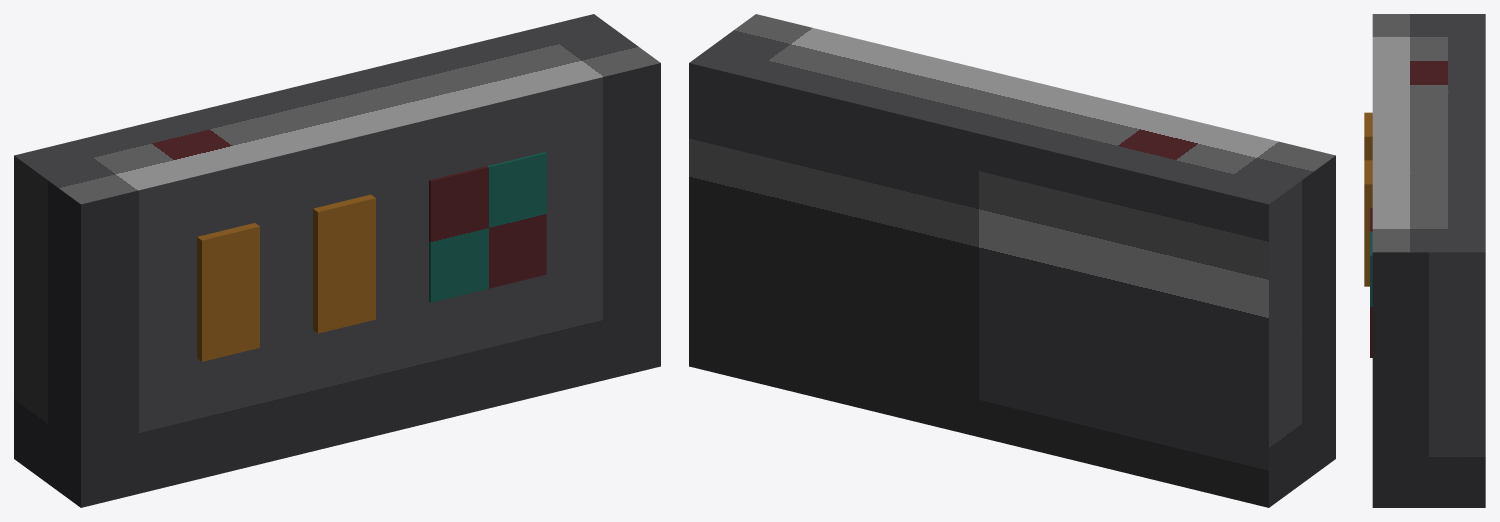
The model's file is airlock_sensor_off.glb.
3 views of the same model, side by side, from view 1: azimuth 30°, elevation 25°; view 2: azimuth 150°, elevation 25°; view 3: azimuth 270°, elevation 25° (orthographic). The views are drawn at different scales.
Visible parts, largest first — view 1: Continuous_Sensor_Housing, Status_Indicator, Press_Button_2, Press_Button_1; view 2: Continuous_Sensor_Housing; view 3: Continuous_Sensor_Housing, Press_Button_2, Status_Indicator, Press_Button_1.
Boxes of the visible parts, x1,y1,x2,y2 form: Continuous_Sensor_Housing: (14,14,660,507); Status_Indicator: (429,152,546,302); Press_Button_2: (313,194,375,333); Press_Button_1: (197,223,259,361); Continuous_Sensor_Housing: (689,14,1335,507); Continuous_Sensor_Housing: (1372,14,1485,507); Press_Button_2: (1364,160,1372,286); Status_Indicator: (1370,208,1372,357); Press_Button_1: (1364,112,1372,160).
Size of the model in its own units: 0.2812 by 0.1406 by 0.0605.
Materials: 1 (1 with a texture image).
